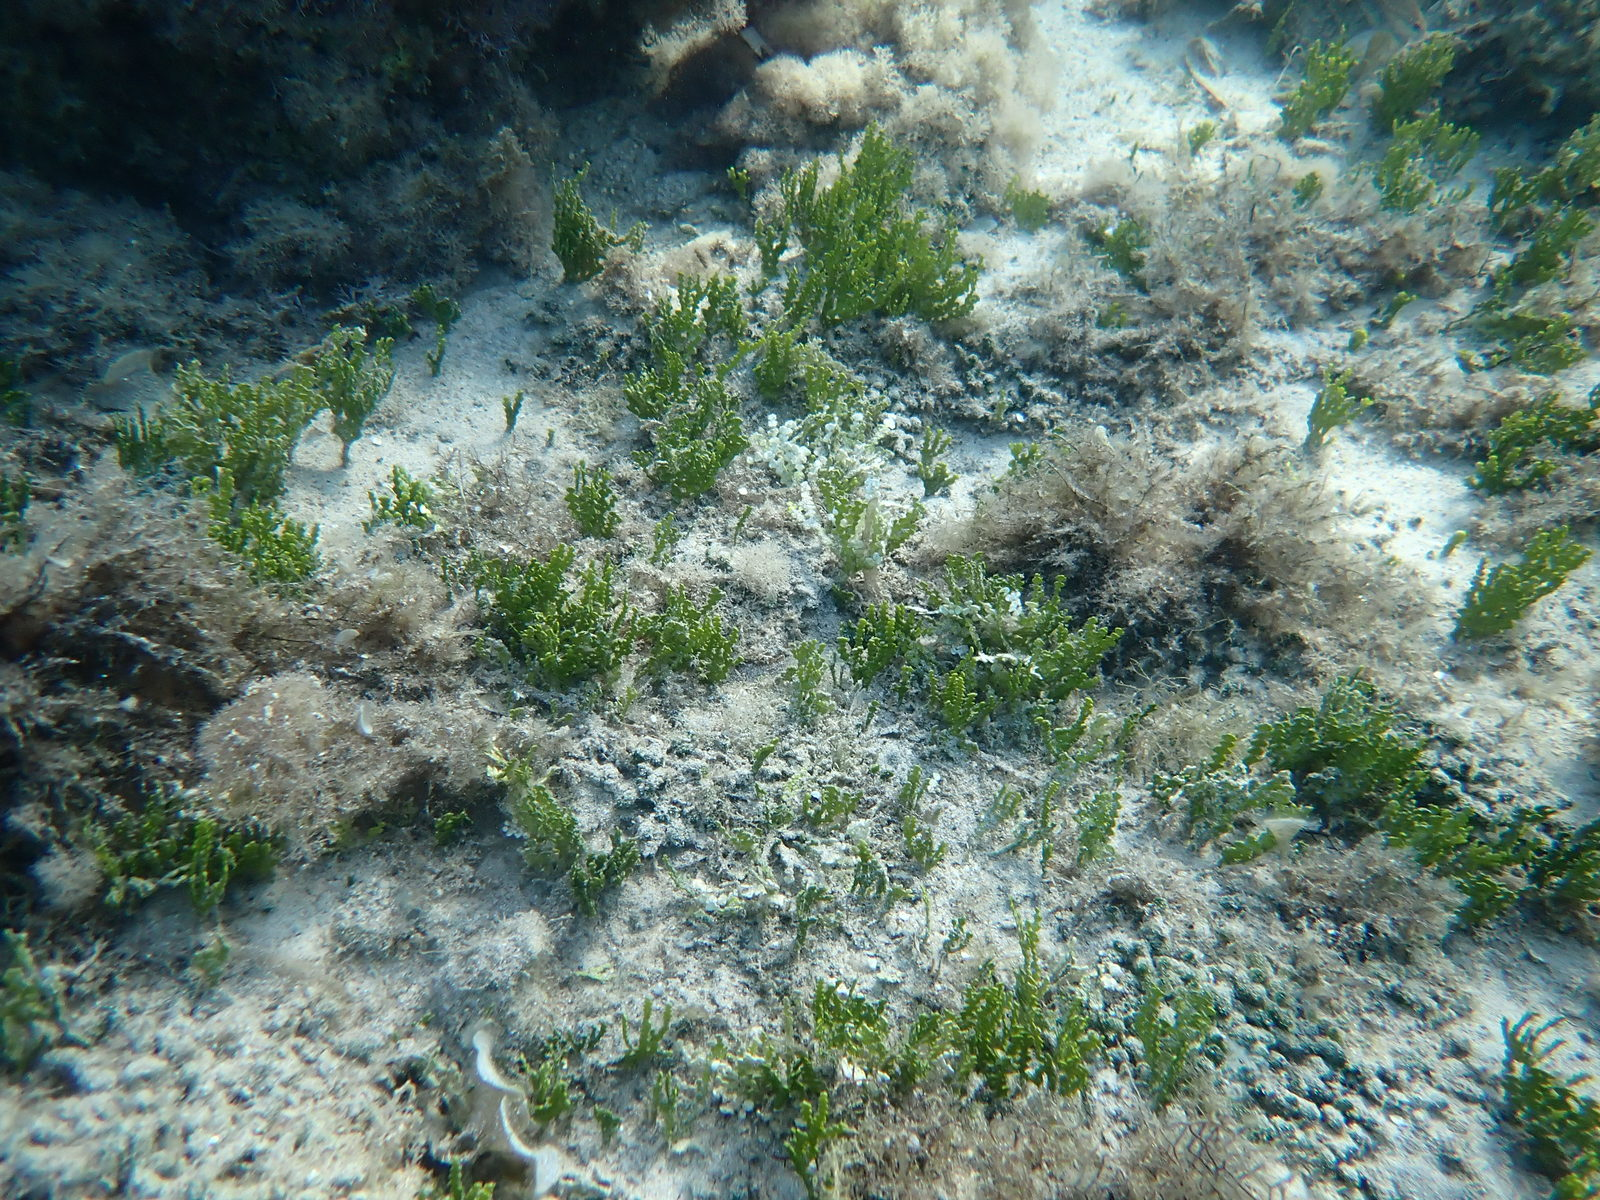halimeda: (981, 576, 1130, 701), (1301, 673, 1429, 817), (1504, 1018, 1600, 1197), (1456, 522, 1591, 642), (1199, 727, 1310, 851), (1374, 785, 1534, 868), (227, 368, 328, 482), (828, 234, 955, 323), (1275, 25, 1361, 137), (745, 412, 863, 492), (496, 603, 653, 661), (963, 969, 1043, 1080), (3, 928, 67, 1066), (92, 802, 186, 895), (1136, 984, 1216, 1094), (655, 584, 742, 682), (319, 320, 398, 427), (1482, 391, 1597, 460), (503, 787, 581, 882), (1386, 33, 1460, 132), (840, 600, 926, 686), (808, 362, 891, 447), (551, 161, 609, 284), (157, 361, 228, 456), (656, 421, 750, 493), (820, 466, 886, 568), (813, 978, 889, 1063), (1490, 314, 1589, 372), (360, 460, 432, 534), (1295, 376, 1374, 442), (782, 155, 839, 248), (780, 1090, 842, 1175), (860, 118, 917, 205), (186, 824, 236, 923), (643, 297, 692, 392), (564, 460, 624, 538), (1047, 1002, 1101, 1087), (499, 543, 574, 603), (1547, 118, 1600, 203), (1450, 862, 1512, 933), (518, 1041, 566, 1122), (193, 464, 239, 545), (1383, 134, 1430, 213), (1033, 700, 1102, 751), (746, 1037, 810, 1093), (238, 498, 283, 574), (839, 163, 884, 237), (753, 326, 808, 388), (792, 640, 837, 713), (619, 1000, 677, 1055), (1078, 787, 1120, 863), (1466, 458, 1558, 492), (1570, 819, 1600, 921), (786, 256, 826, 326), (887, 498, 934, 558), (278, 516, 320, 582), (113, 407, 168, 458), (1495, 163, 1540, 224), (753, 213, 792, 279), (488, 747, 539, 797), (716, 332, 763, 383), (1540, 211, 1595, 255), (792, 884, 830, 948), (706, 275, 746, 333), (624, 372, 669, 422), (918, 576, 968, 620), (1437, 116, 1477, 171), (690, 379, 741, 421), (449, 1156, 494, 1200), (1009, 180, 1049, 229), (911, 1011, 955, 1055), (236, 839, 277, 886), (677, 271, 706, 338), (414, 282, 462, 321), (651, 1071, 680, 1134), (1099, 221, 1138, 266), (577, 851, 606, 911), (1010, 908, 1041, 964), (582, 558, 614, 613), (853, 842, 886, 894), (190, 942, 231, 982), (910, 831, 952, 867), (790, 480, 821, 529), (522, 650, 563, 687), (467, 552, 503, 595), (1395, 113, 1443, 145), (1382, 284, 1416, 328), (653, 509, 682, 561), (927, 669, 957, 718), (821, 787, 862, 823), (997, 779, 1031, 822), (331, 818, 386, 845), (690, 894, 742, 921), (609, 829, 637, 879), (1518, 251, 1562, 282), (917, 463, 959, 495), (717, 821, 758, 851), (894, 1045, 929, 1082), (944, 913, 974, 953), (433, 811, 469, 845), (425, 323, 446, 377), (923, 426, 952, 465), (595, 1105, 622, 1145), (1443, 522, 1471, 558), (903, 766, 930, 805), (1187, 118, 1214, 155), (501, 389, 524, 432), (1008, 439, 1041, 466), (630, 450, 658, 482), (755, 740, 781, 773), (944, 548, 957, 609), (734, 503, 753, 546), (727, 165, 750, 199), (1044, 775, 1060, 826), (1296, 171, 1318, 204), (1104, 305, 1133, 329), (1497, 256, 1512, 299), (551, 697, 572, 726), (900, 814, 920, 845), (629, 219, 649, 250), (617, 684, 636, 716), (781, 996, 792, 1047), (886, 882, 913, 903), (786, 773, 797, 822), (1445, 185, 1477, 203), (1123, 710, 1136, 749), (699, 1064, 713, 1102), (994, 386, 1007, 425), (587, 1020, 605, 1047), (900, 662, 910, 708), (566, 1029, 585, 1053), (663, 856, 678, 884), (766, 804, 785, 826), (709, 1035, 728, 1056), (442, 555, 455, 582), (801, 792, 813, 821), (867, 698, 877, 730), (500, 645, 511, 672), (1353, 328, 1366, 350), (610, 205, 619, 234), (587, 688, 600, 708), (506, 703, 523, 718), (690, 334, 700, 355), (1056, 425, 1065, 449), (784, 666, 797, 679), (546, 429, 554, 447), (447, 587, 454, 608), (476, 633, 483, 650), (758, 784, 763, 797)
